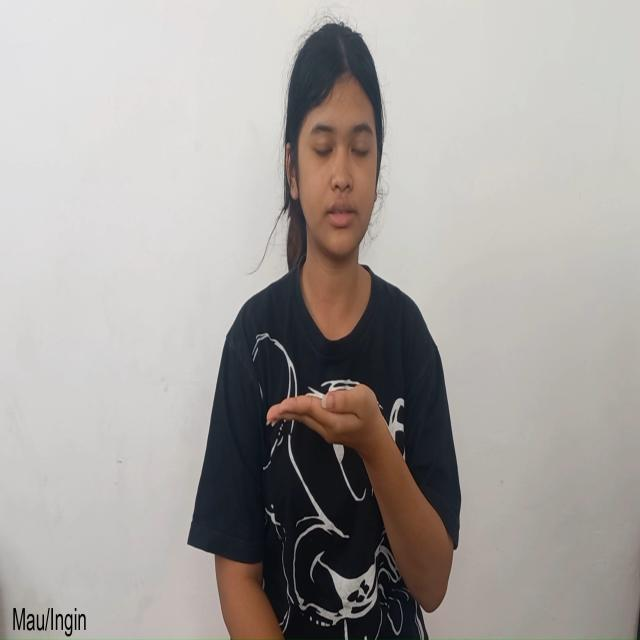Mau-Ingin -BISINDO-: (265, 381, 457, 616)
